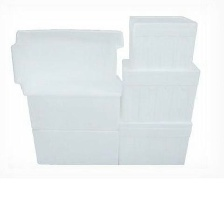foam_box: (6, 24, 126, 100), (16, 69, 126, 131), (116, 56, 204, 124), (124, 10, 202, 71), (29, 119, 122, 167), (114, 116, 196, 169)
